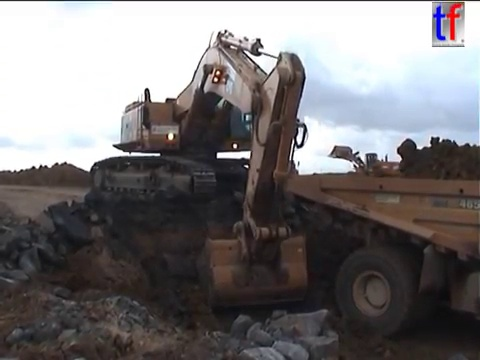excavator: (86, 27, 313, 311)
truck: (273, 170, 480, 344)
wheel loader: (324, 143, 405, 187)
